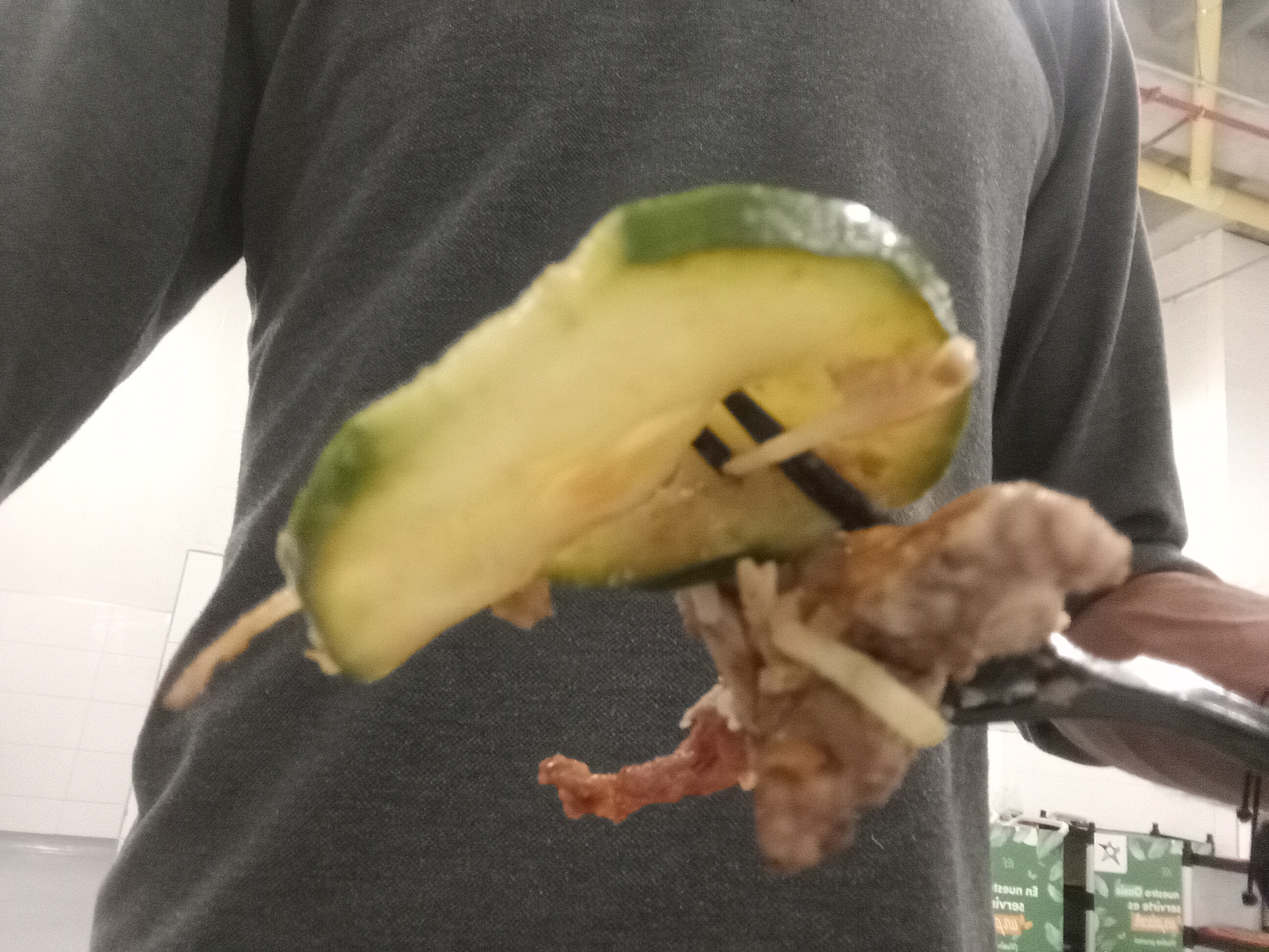Organico: (280, 186, 1131, 879)
